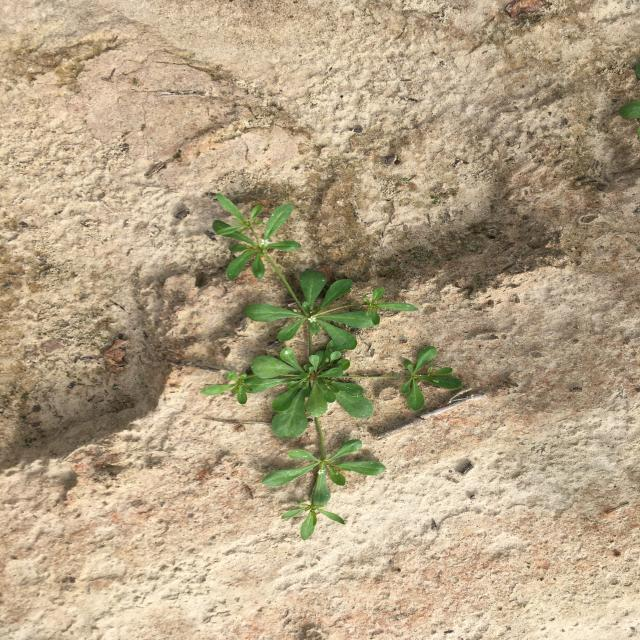Carpetweed: (199, 194, 462, 541)
